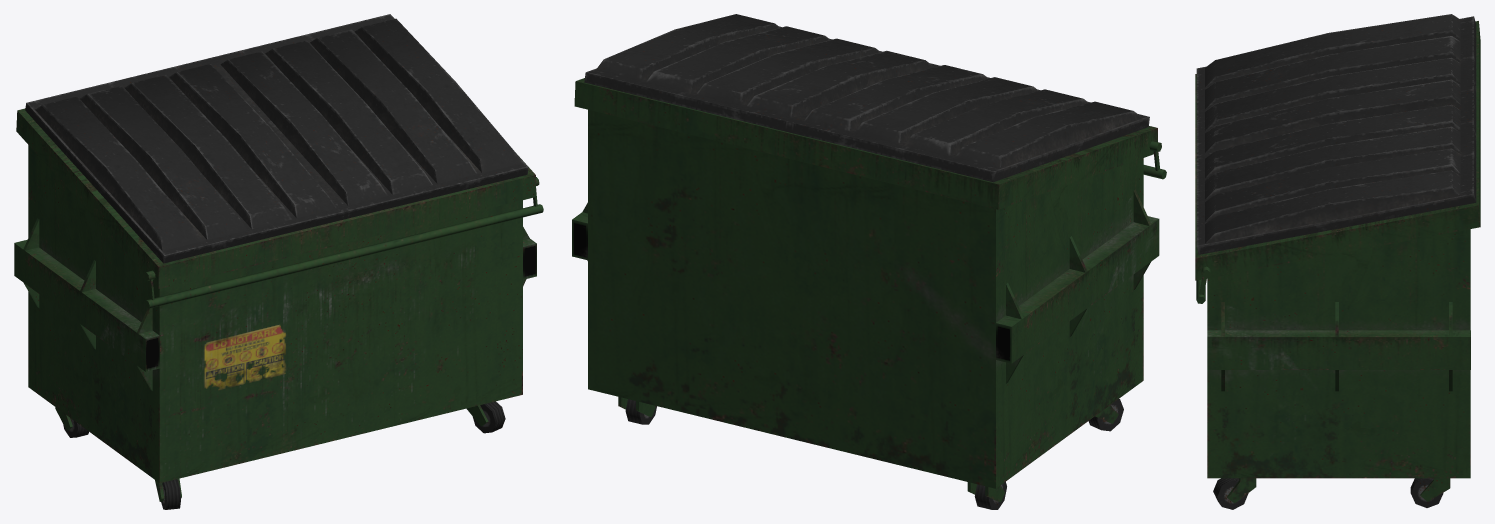
Rendered from PROP_Dumpster.glb.
3 views of the same model, side by side, from view 1: azimuth 30°, elevation 25°; view 2: azimuth 150°, elevation 25°; view 3: azimuth 270°, elevation 25° (orthographic). The views are drawn at different scales.
Parts seen in each view (by area): view 1: Trash_can_H; view 2: Trash_can_H; view 3: Trash_can_H.
Boxes of the visible parts, x1,y1,x2,y2 form: Trash_can_H: [14, 14, 543, 509]; Trash_can_H: [572, 14, 1166, 509]; Trash_can_H: [1195, 14, 1480, 509].
Size of the model in its own units: 1.85 by 1.47 by 1.16.
Materials: 1 (1 with a texture image).
